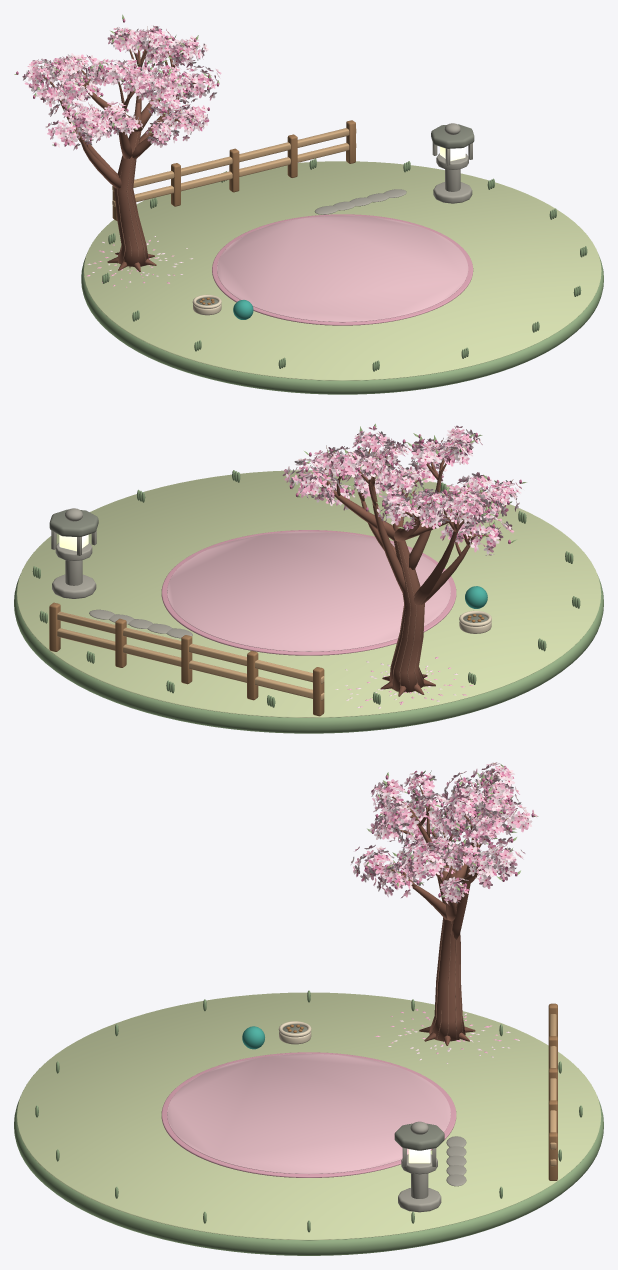
The model's file is sakura.glb.
3 renders of one model, top to bottom at view 1: azimuth 30°, elevation 25°; view 2: azimuth 150°, elevation 25°; view 3: azimuth 270°, elevation 25°, orthographic. The views are drawn at different scales.
Parts seen in each view (by area): view 1: Sakura_S_grass.004, Sakura_S_rug.004, Sakura_S_edge.004, Sakura_v2_Petal_pearl, Sakura_v2_Petal_blush, Sakura_v2_Bark_warm_umber, Sakura_S_wood_light.004, Sakura_S_stone.004, Sakura_v2_Petal_rose, Sakura_S_rug_edge.004, Sakura_S_wood.004, Sakura_S_stone_dark.004 (+2 smaller); view 2: Sakura_S_grass.004, Sakura_S_rug.004, Sakura_S_edge.004, Sakura_v2_Petal_pearl, Sakura_v2_Bark_warm_umber, Sakura_v2_Petal_blush, Sakura_S_wood_light.004, Sakura_S_stone.004, Sakura_S_wood.004, Sakura_S_rug_edge.004, Sakura_v2_Petal_rose, Sakura_S_stone_dark.004 (+5 smaller); view 3: Sakura_S_grass.004, Sakura_S_rug.004, Sakura_S_edge.004, Sakura_v2_Petal_pearl, Sakura_v2_Petal_blush, Sakura_v2_Bark_warm_umber, Sakura_S_stone.004, Sakura_S_rug_edge.004, Sakura_v2_Petal_rose, Sakura_S_wood.004, Sakura_S_stone_dark.004, Sakura_v2_Flower_heart (+3 smaller).
Part boxes in pixels (x1,y1,x2,y2): Sakura_S_grass.004: (83, 161, 601, 380); Sakura_S_rug.004: (217, 215, 468, 322); Sakura_S_edge.004: (81, 158, 603, 394); Sakura_v2_Petal_pearl: (23, 25, 220, 282); Sakura_v2_Petal_blush: (22, 26, 221, 287); Sakura_v2_Bark_warm_umber: (40, 26, 208, 271); Sakura_S_wood_light.004: (112, 128, 356, 206); Sakura_S_stone.004: (314, 123, 472, 214); Sakura_v2_Petal_rose: (16, 18, 219, 146); Sakura_S_rug_edge.004: (212, 214, 473, 325); Sakura_S_wood.004: (112, 120, 355, 220); Sakura_S_stone_dark.004: (196, 124, 474, 305); Sakura_S_grass.004: (16, 470, 601, 717); Sakura_S_rug.004: (167, 531, 450, 651); Sakura_S_edge.004: (14, 470, 603, 733); Sakura_v2_Petal_pearl: (286, 428, 521, 708); Sakura_v2_Bark_warm_umber: (304, 427, 513, 696); Sakura_v2_Petal_blush: (282, 425, 521, 707); Sakura_S_wood_light.004: (57, 611, 324, 700); Sakura_S_stone.004: (51, 508, 192, 638); Sakura_S_wood.004: (49, 602, 324, 716); Sakura_S_rug_edge.004: (161, 530, 456, 655); Sakura_v2_Petal_rose: (289, 426, 521, 547); Sakura_S_stone_dark.004: (49, 509, 487, 622); Sakura_S_grass.004: (16, 992, 601, 1240); Sakura_S_rug.004: (167, 1053, 450, 1174); Sakura_S_edge.004: (14, 990, 603, 1255); Sakura_v2_Petal_pearl: (351, 762, 536, 1063); Sakura_v2_Petal_blush: (351, 763, 537, 1053); Sakura_v2_Bark_warm_umber: (375, 769, 522, 1045); Sakura_S_stone.004: (398, 1121, 466, 1212); Sakura_S_rug_edge.004: (161, 1052, 456, 1177); Sakura_v2_Petal_rose: (356, 763, 534, 901); Sakura_S_wood.004: (548, 1003, 557, 1180); Sakura_S_stone_dark.004: (282, 1024, 444, 1150); Sakura_v2_Flower_heart: (357, 765, 528, 897).
Size of the model in its own units: 6.65 by 3.23 by 6.4.
